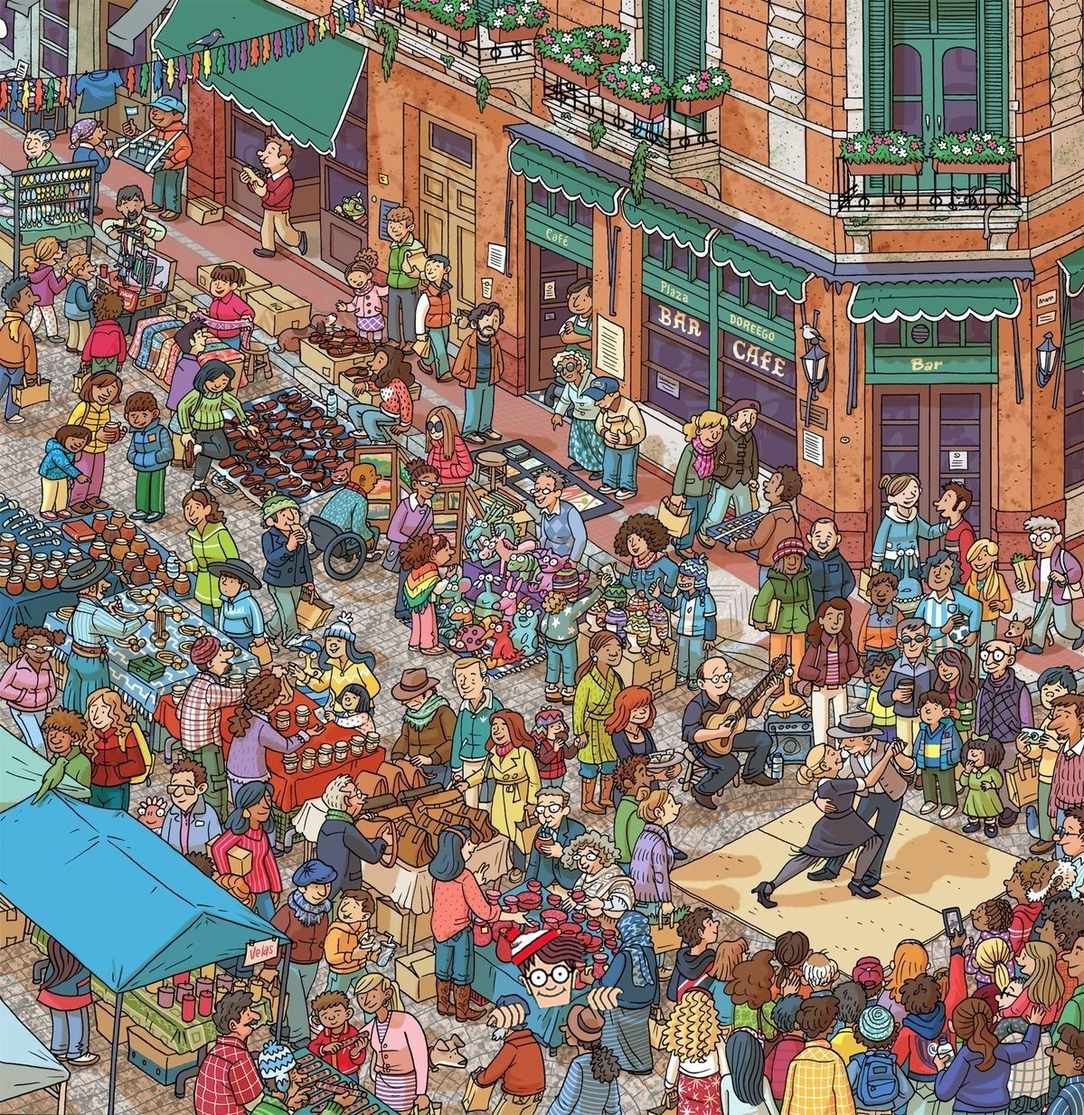waldo: (487, 927, 624, 1029)
